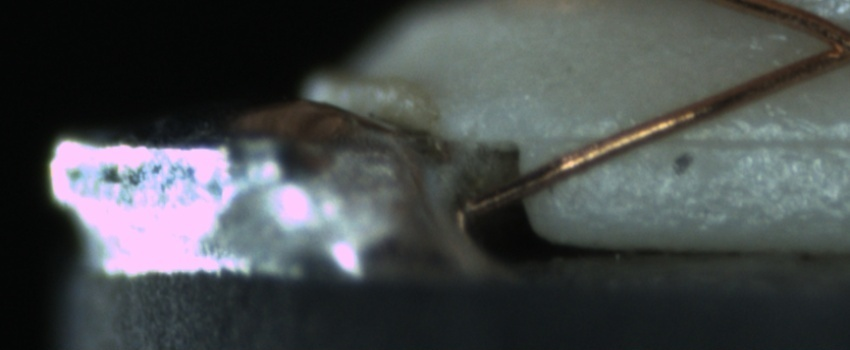CL: (799, 13, 850, 74)
DL: (552, 108, 850, 170)
